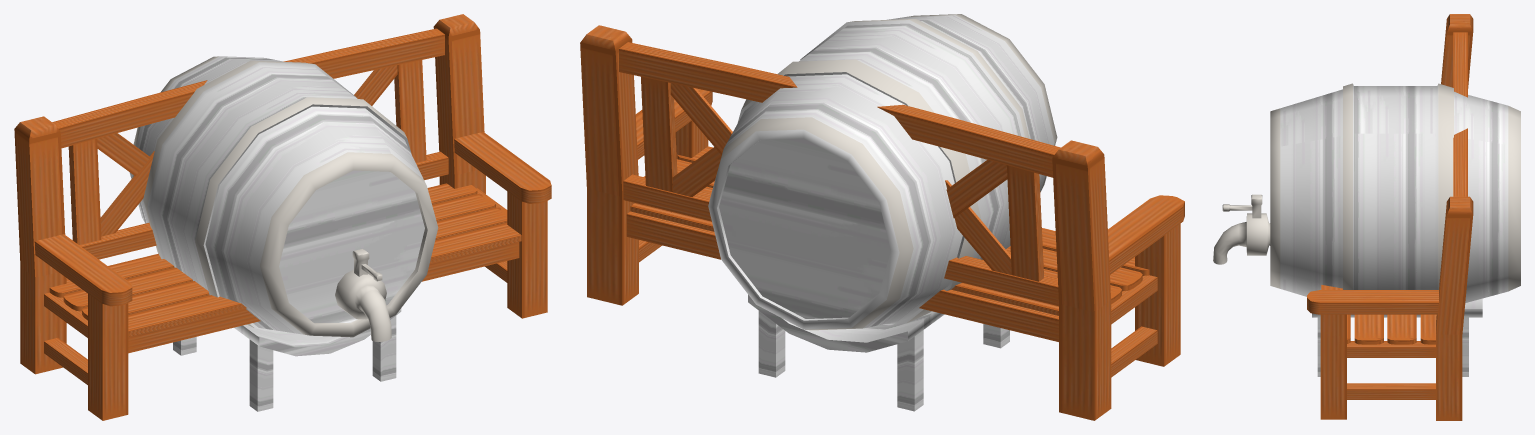
File: GumBenchHand.fbx
3 renders of one model, left to right at view 1: azimuth 30°, elevation 25°; view 2: azimuth 150°, elevation 25°; view 3: azimuth 270°, elevation 25°, orthographic. The views are drawn at different scales.
Visible parts, largest first — view 1: Keg (1), Bin (1); view 2: Keg (1), Bin (1); view 3: Keg (1), Bin (1).
Boxes of the visible parts, box(x1,y1,x2,y2) form: Keg (1): box(129, 56, 438, 411); Bin (1): box(14, 14, 551, 420); Keg (1): box(708, 14, 1057, 411); Bin (1): box(580, 25, 1184, 420); Keg (1): box(1213, 83, 1520, 376); Bin (1): box(1307, 14, 1473, 420).
Size of the model in its own units: 1.19 by 0.7134 by 0.7864.
3 materials, 2 textured.
